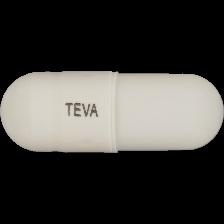66116-473: (0, 0, 224, 224)
